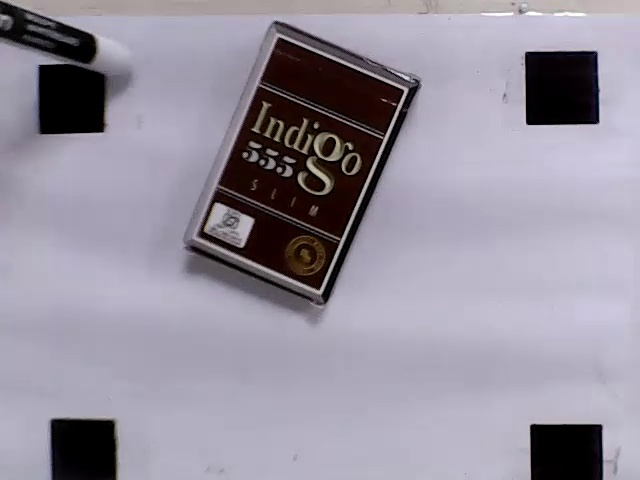BEX: (194, 34, 406, 291)
